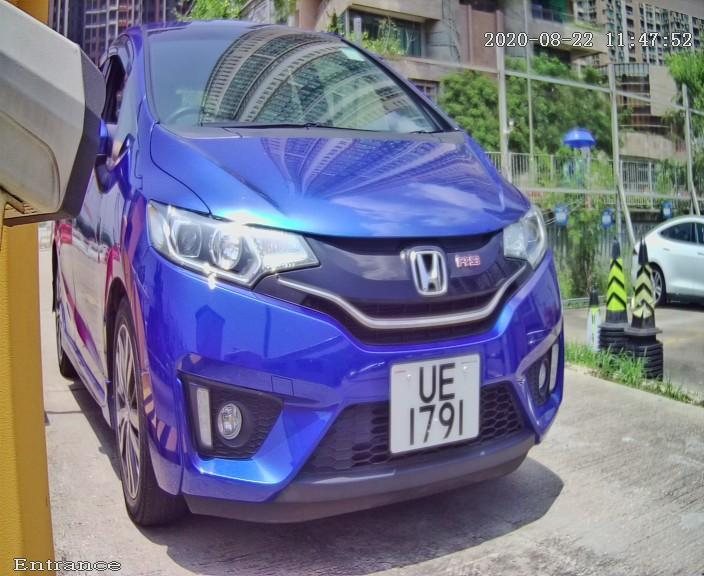Car: (32, 1, 604, 571)
License Plate: (384, 345, 488, 463)
